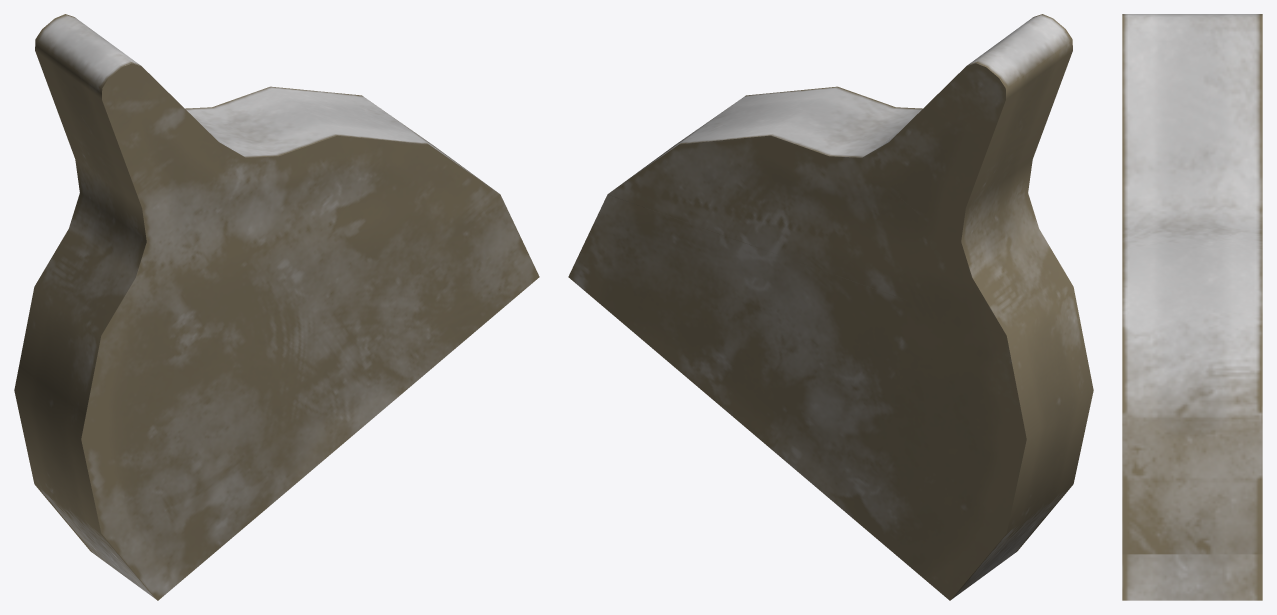
Rendered from SwitchP2.glb.
3 views of the same model, side by side, from view 1: azimuth 30°, elevation 25°; view 2: azimuth 150°, elevation 25°; view 3: azimuth 270°, elevation 25° (orthographic). The views are drawn at different scales.
Parts seen in each view (by area): view 1: Object_2.003; view 2: Object_2.003; view 3: Object_2.003.
Boxes of the visible parts, box(x1,y1,x2,y2) form: Object_2.003: box(14, 14, 539, 600); Object_2.003: box(568, 14, 1093, 600); Object_2.003: box(1122, 14, 1262, 600).
Size of the model in its own units: 0.4945 by 0.561 by 0.1251.
1 material, 1 textured.
